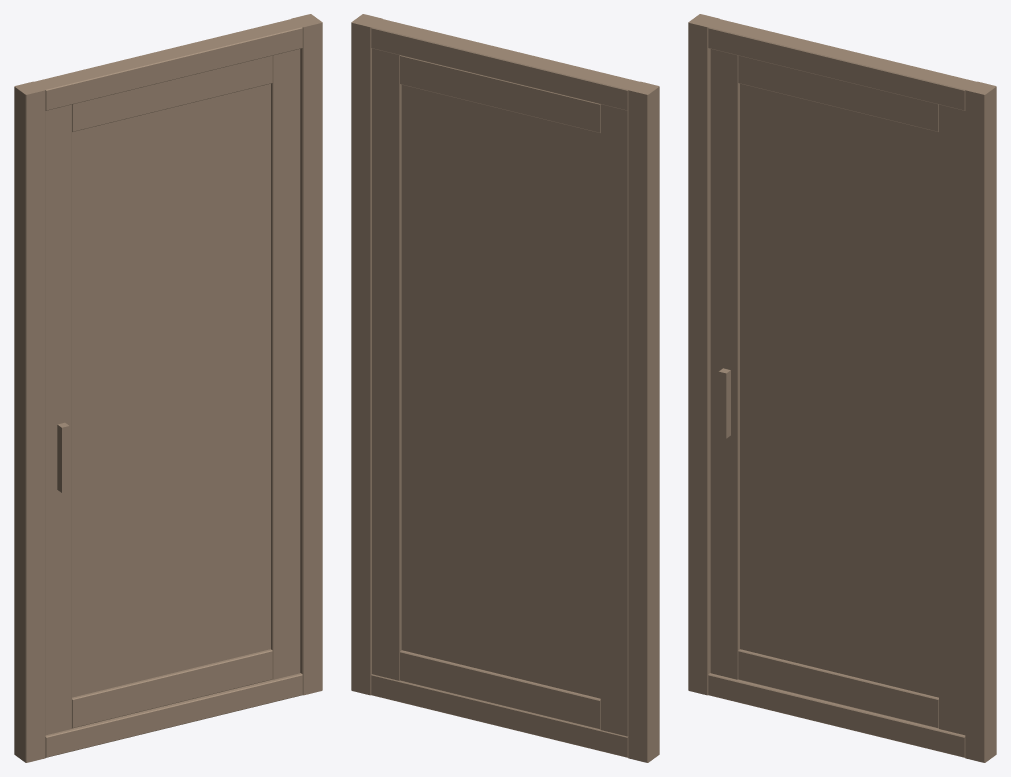
Rendered from bt-A400K-1-ferme-quartz-1019.glb.
The picture shows the model from 3 angles, left to right: view 1: azimuth 30°, elevation 25°; view 2: azimuth 150°, elevation 25°; view 3: azimuth 330°, elevation 25°; orthographic projection.
Parts seen in each view (by area): view 1: panneau, structure; view 2: panneau, structure; view 3: panneau, structure.
Part boxes in pixels (x1,y1,x2,y2): panneau: [72, 83, 270, 697]; structure: [14, 14, 322, 762]; panneau: [401, 85, 600, 698]; structure: [351, 14, 659, 762]; panneau: [740, 83, 938, 697]; structure: [688, 14, 996, 762].
Bounding box in the file's own units: 1 × 2.15 × 0.085.
